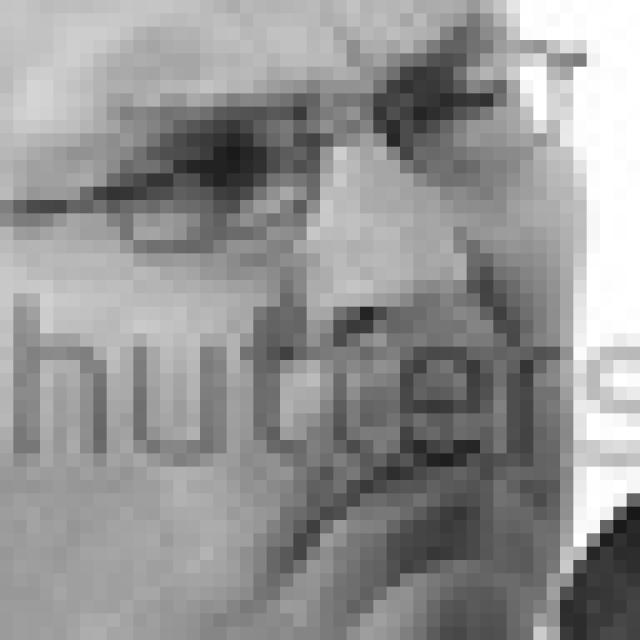disgust: (110, 0, 535, 585)
